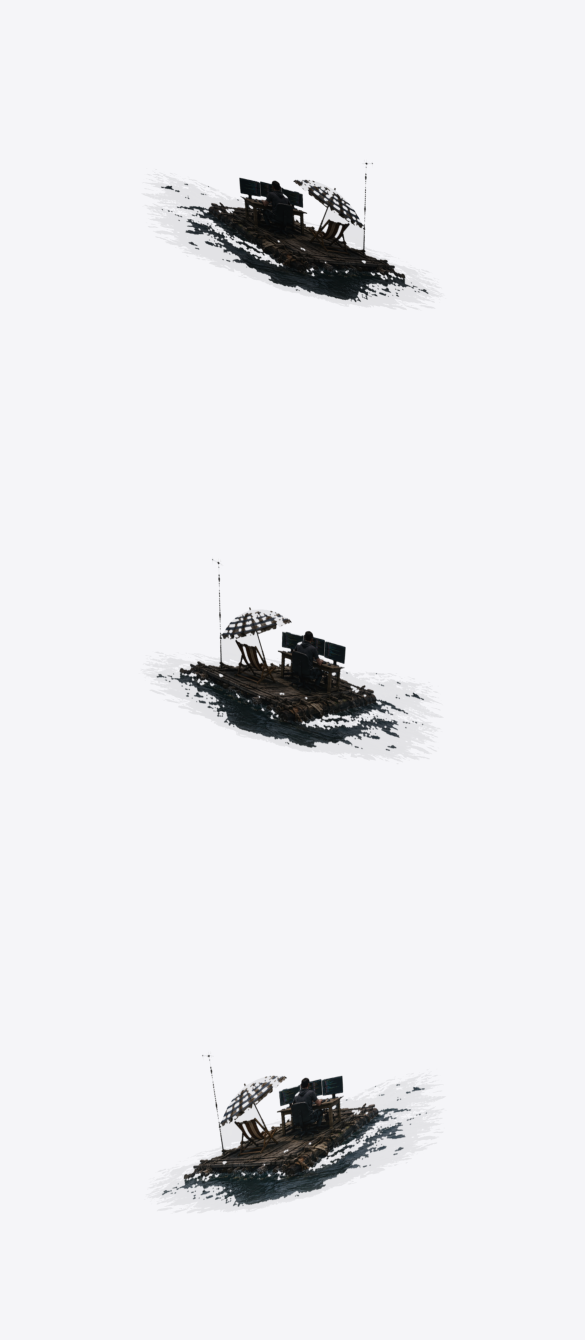
The model's file is WhatWeDo.glb.
The picture shows the model from 3 angles, top to bottom: view 1: azimuth 30°, elevation 25°; view 2: azimuth 210°, elevation 25°; view 3: azimuth 270°, elevation 25°; orthographic projection.
Visible parts, largest first — view 1: Boat; view 2: Boat; view 3: Boat.
Boxes of the visible parts, x1,y1,x2,y2 form: Boat: (161, 162, 428, 302); Boat: (156, 559, 423, 750); Boat: (162, 1055, 426, 1206).
Size of the model in its own units: 64.37 by 59.4 by 108.
1 material, 1 textured.
